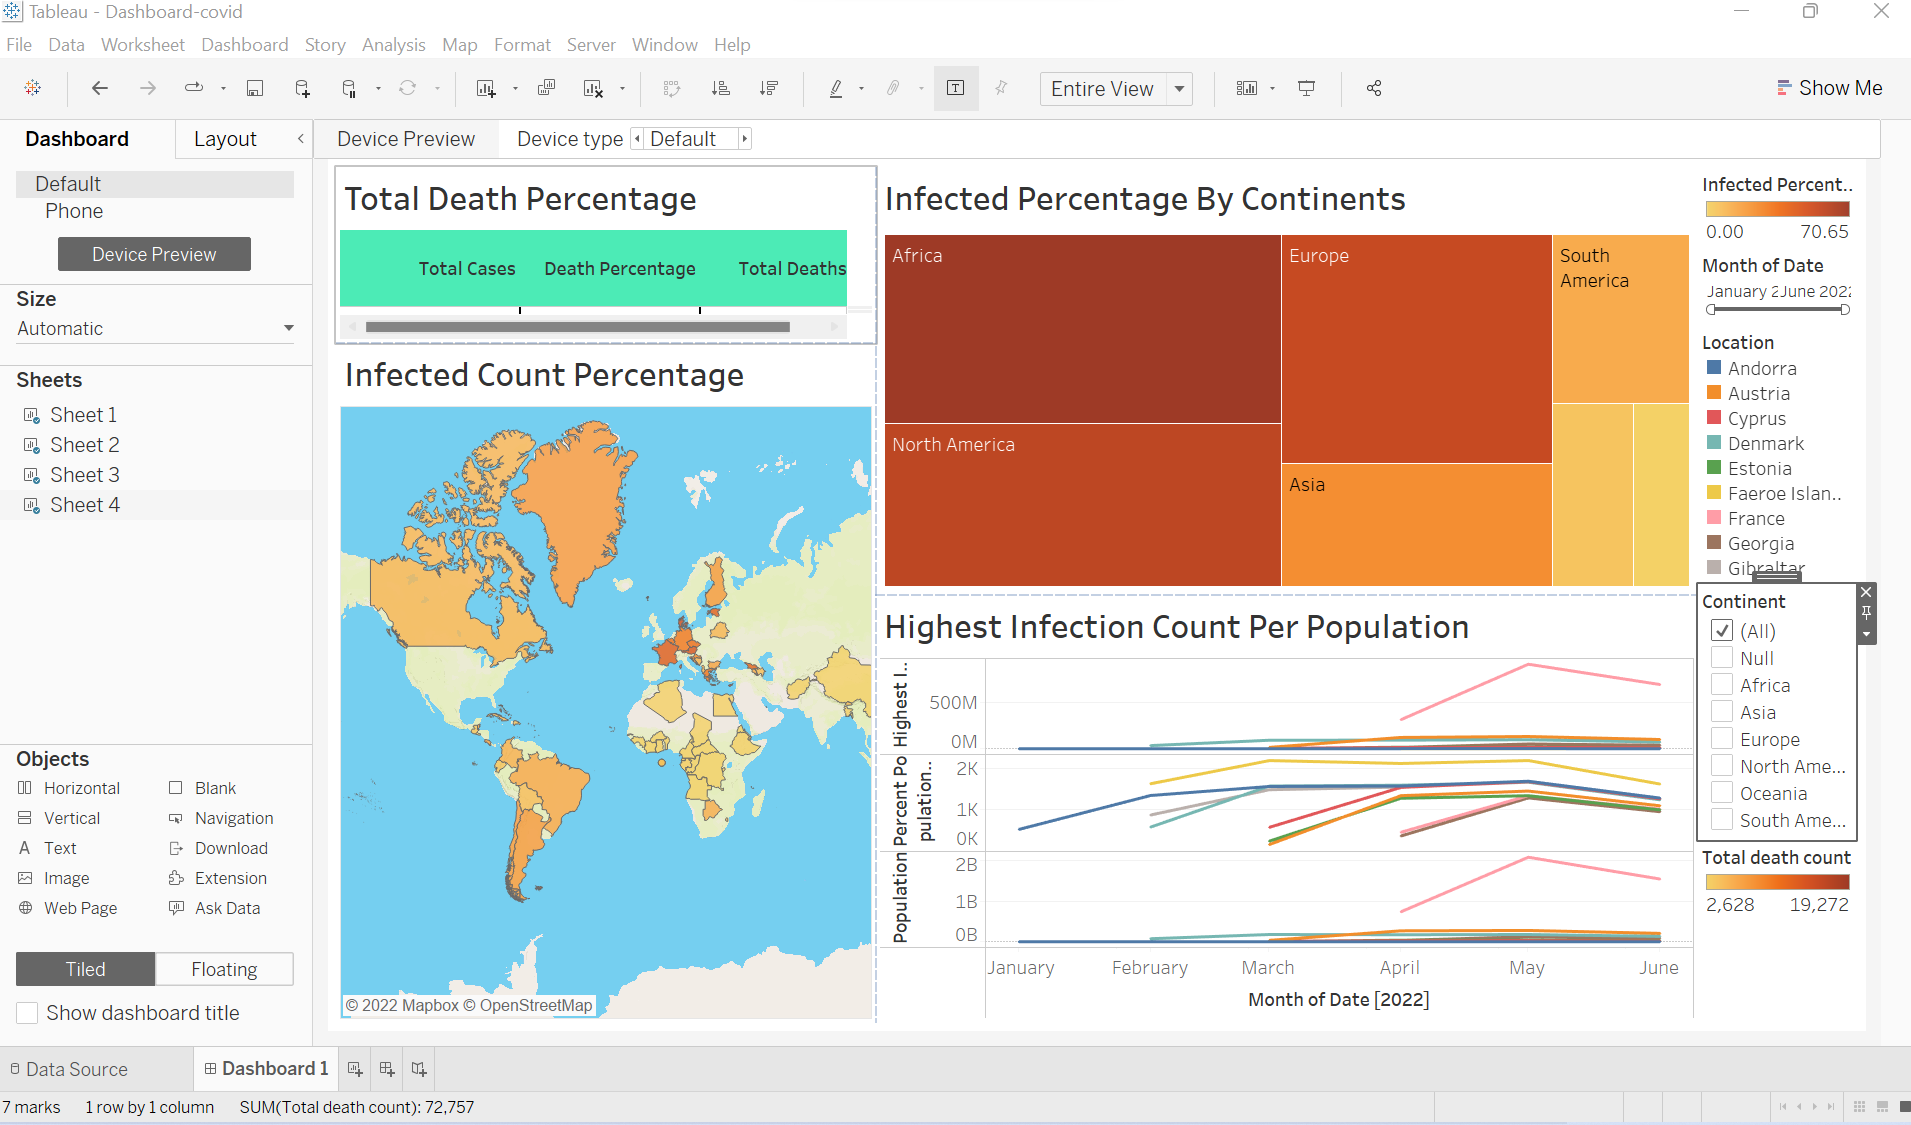

What the dashboard file says about the page in this screenshot:
{"tool":"tableau","page":{"name":"Dashboard 1","canvas":[1000,1000],"units":"permille","ordinal":0},"visuals":[{"type":"worksheet","title":"Sheet 1","mark":"Automatic","box":[4.9,8.6,353.4,201.9]},{"type":"worksheet","title":"Sheet 4","mark":"Automatic","box":[358.3,8.6,538.4,491.3]},{"type":"legend","title":"Sheet 2","param":"[federated.0ki4kz60xqkte40zy9qsl0af0g7d].[sum:PercentPopulationInfected:qk]","box":[896.7,8.6,98.3,87.5]},{"type":"filter","title":"Sheet 3","param":"[federated.1xyysd61x6h9e717meszn0hcrsko].[tmn:date:qk]","box":[896.7,96.1,98.3,83.2]},{"type":"legend","title":"Sheet 3","param":"[federated.1xyysd61x6h9e717meszn0hcrsko].[none:Location:nk]","box":[896.7,179.3,98.3,279.7]},{"type":"worksheet","title":"Sheet 2","mark":"Automatic","box":[4.9,210.5,353.4,780.8]},{"type":"filter","title":"Sheet 4","param":"[federated.1tk1cxz0ndljuf1a7e7830u8g9jq].[none:continent:nk]","box":[896.7,459,98.3,276.5]},{"type":"worksheet","title":"Sheet 3","mark":"Automatic","rows":["HighestInfectionCount","PercentPopulationInfected","Population"],"cols":["date"],"box":[358.3,500,538.4,491.4]},{"type":"legend","title":"Sheet 4","param":"[federated.1tk1cxz0ndljuf1a7e7830u8g9jq].[sum:Total_death_count:qk]","box":[896.7,735.4,98.3,87.5]}]}

Visuals, with their boxes on the dashboard's canvas, which has no fixed pixel size, in thousandths of its width and height (x1, y1, x2, y2). These are canvas units, not pixel positions in the 1911x1125 screenshot, which may show the page scaled, cropped or inside an application window:
"Sheet 1" worksheet: (left=5, top=9, right=358, bottom=210)
"Sheet 4" worksheet: (left=358, top=9, right=897, bottom=500)
"Sheet 2" legend: (left=897, top=9, right=995, bottom=96)
"Sheet 3" filter: (left=897, top=96, right=995, bottom=179)
"Sheet 3" legend: (left=897, top=179, right=995, bottom=459)
"Sheet 2" worksheet: (left=5, top=210, right=358, bottom=991)
"Sheet 4" filter: (left=897, top=459, right=995, bottom=736)
"Sheet 3" worksheet: (left=358, top=500, right=897, bottom=991)
"Sheet 4" legend: (left=897, top=735, right=995, bottom=823)
